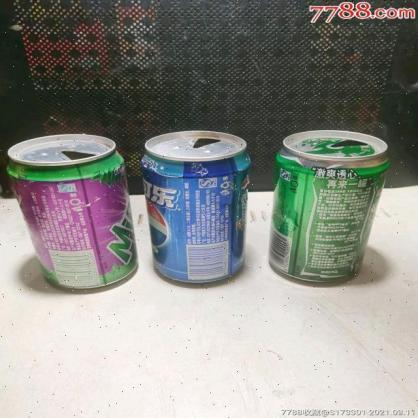can: (6, 134, 138, 296), (268, 130, 388, 284), (142, 130, 252, 284)
